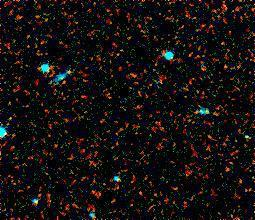star: (55, 54, 85, 84)
